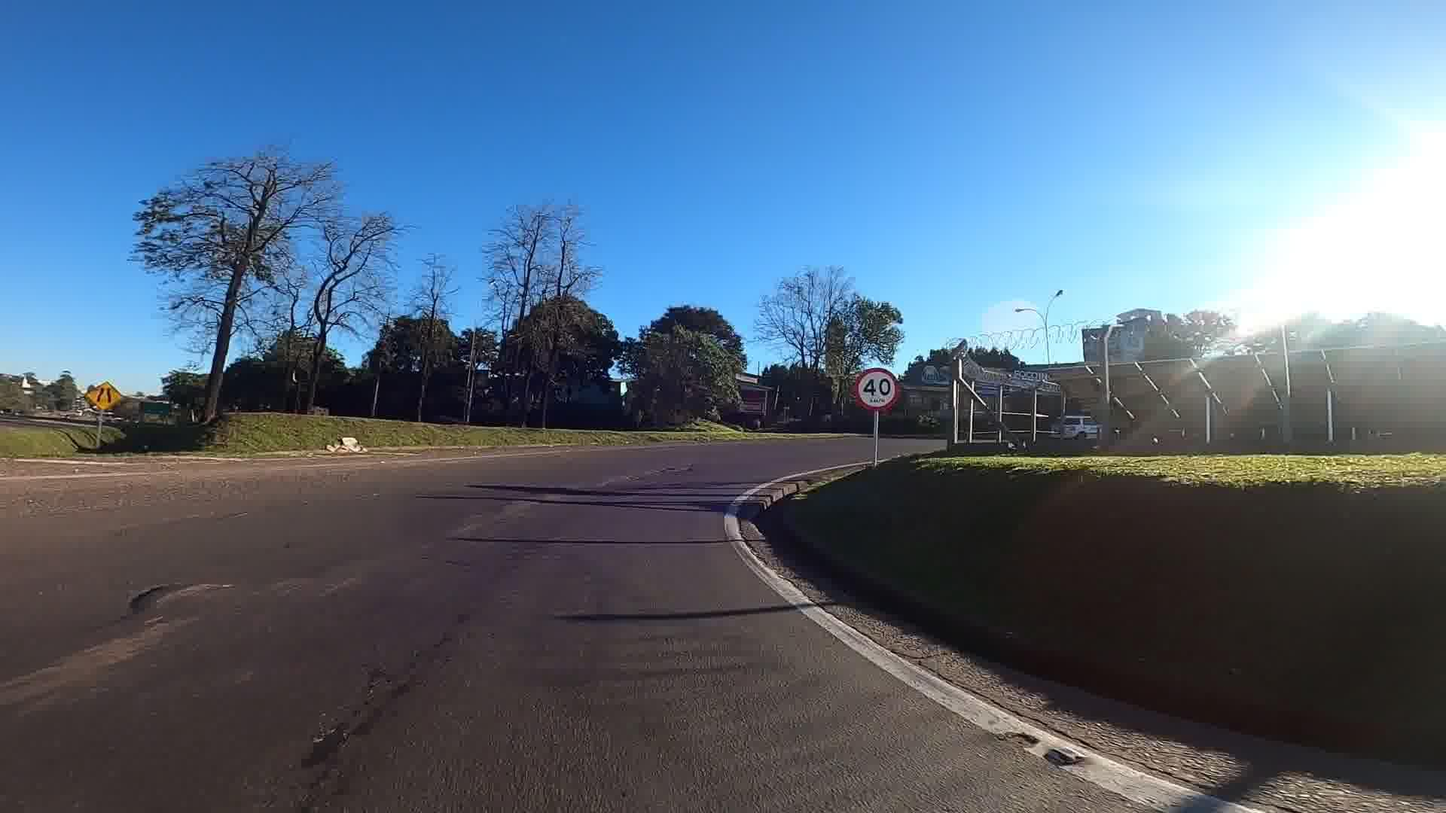R-19: (853, 368, 901, 414)
